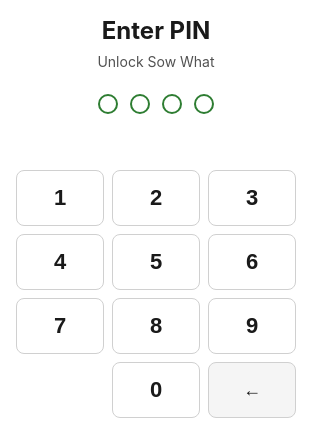
Scenario: Pin page › shows error on incorrect PIN
The width and height of the screenshot is (320, 440).
Expected: the heading "Enter PIN" is shown, [102, 16, 210, 45]
Click the button named "Digit 0".
click(156, 390)  # box [112, 362, 200, 418]
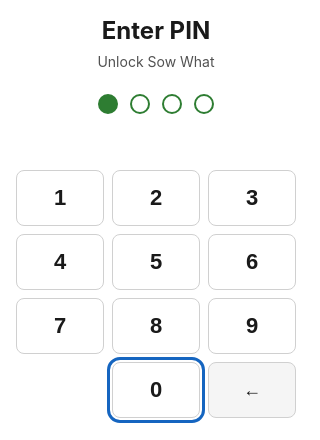
Click the button named "Digit 0".
click(156, 390)  # box [112, 362, 200, 418]
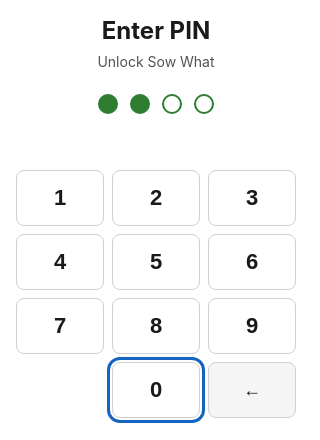
Click the button named "Digit 0".
click(156, 390)  # box [112, 362, 200, 418]
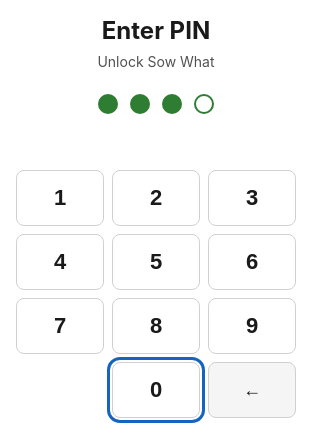
Click the button named "Digit 0".
click(156, 390)  # box [112, 362, 200, 418]
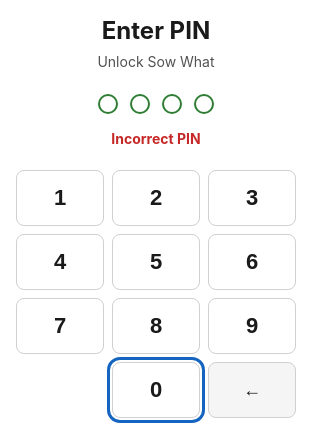
Expected: the message "Incorrect PIN" is shown, [111, 130, 201, 154]
